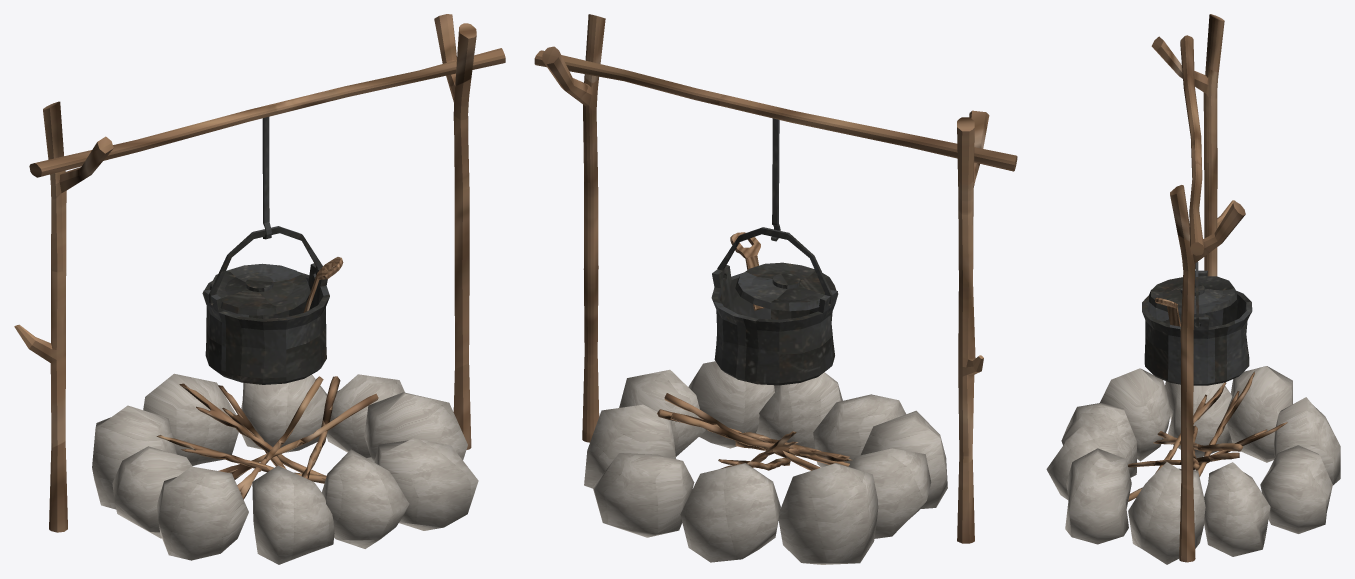
The model's file is LP_CookingPotPit.glb.
3 renders of one model, left to right at view 1: azimuth 30°, elevation 25°; view 2: azimuth 150°, elevation 25°; view 3: azimuth 270°, elevation 25°, orthographic. The views are drawn at different scales.
Visible parts, largest first — view 1: Cube.001; view 2: Cube.001; view 3: Cube.001.
Part boxes in pixels (bbox=[...]): Cube.001: bbox=[14, 14, 505, 564]; Cube.001: bbox=[534, 14, 1017, 564]; Cube.001: bbox=[1046, 14, 1340, 564].
Bounding box in the file's own units: 2.3 × 2.1 × 1.4.
Materials: 3 (3 with a texture image).
